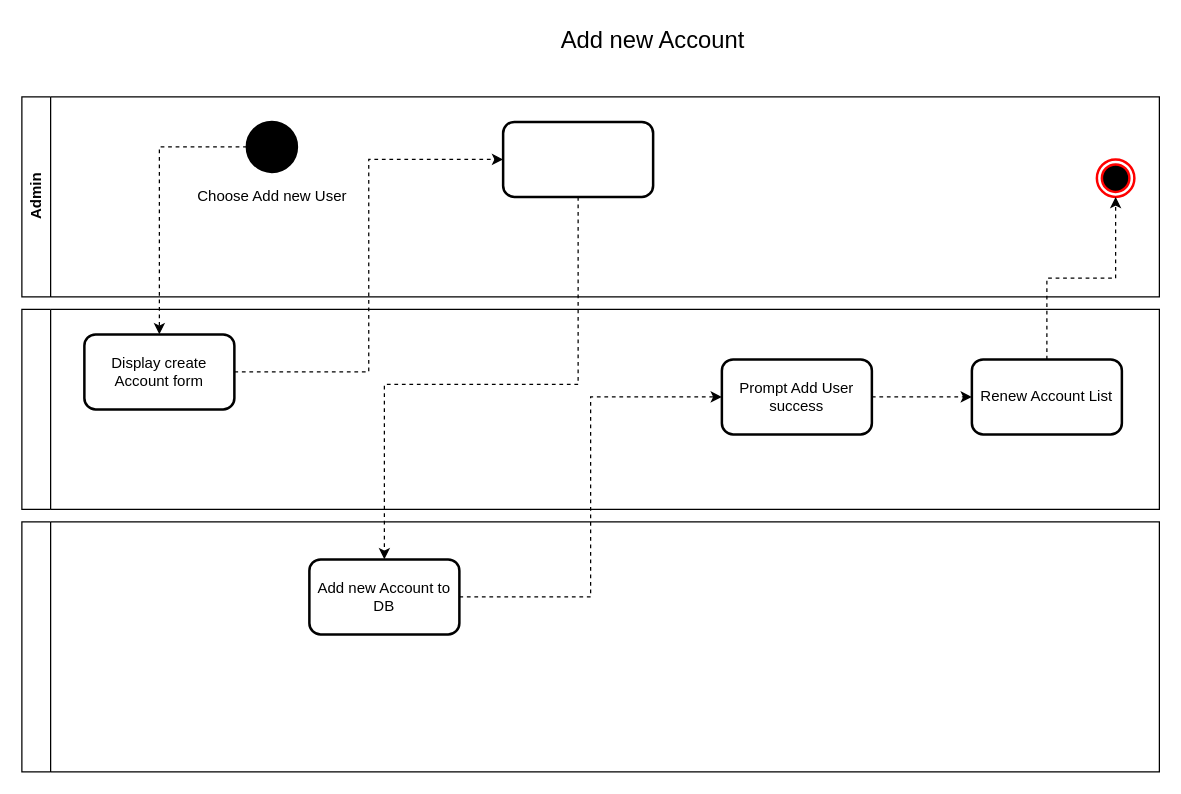
This 1181x794 diagram has some shape labels left out. The box of each missing label's shape, as (x1, y1, x2, y2) in pixels:
AccountManagementController: (21, 308, 1159, 509)
Give new Account information: (501, 120, 654, 198)
UserController: (21, 521, 1159, 772)
